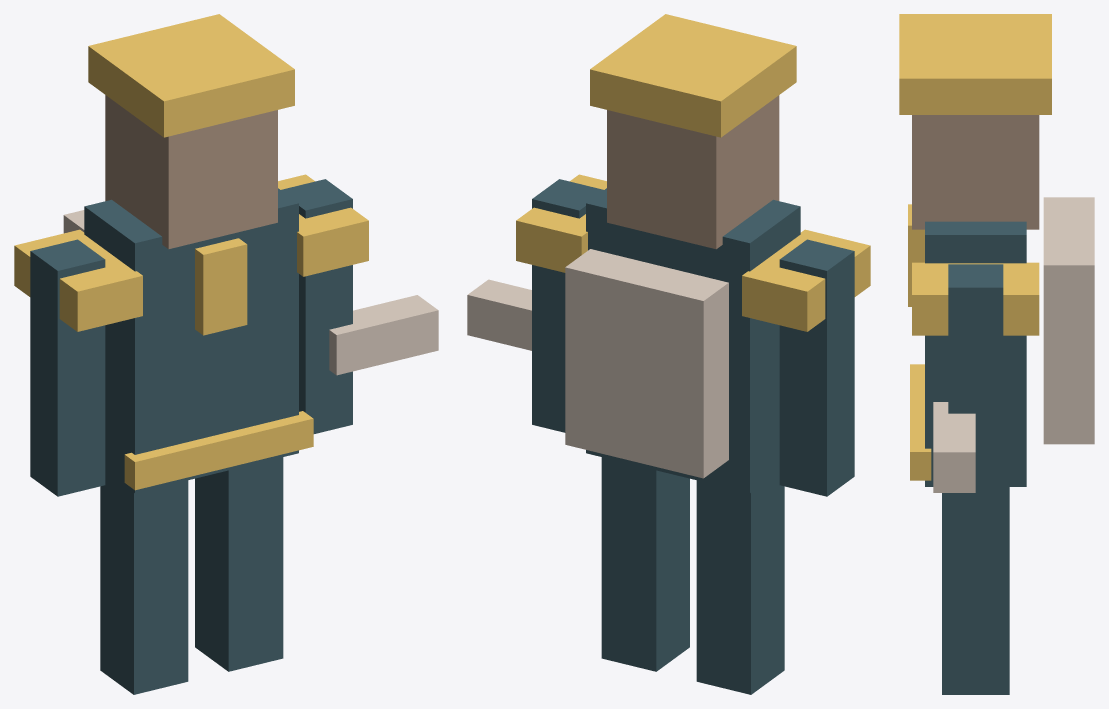
File: 04_kiva_riftwalker_courier_near_geode.glb
The picture shows the model from 3 angles, left to right: view 1: azimuth 30°, elevation 25°; view 2: azimuth 150°, elevation 25°; view 3: azimuth 270°, elevation 25°; orthographic projection.
Visible parts, largest first — view 1: Kiva Riftwalker, Courier near Geode; view 2: Kiva Riftwalker, Courier near Geode; view 3: Kiva Riftwalker, Courier near Geode.
Part boxes in pixels (x1,y1,x2,y2): Kiva Riftwalker, Courier near Geode: (14, 14, 438, 694); Kiva Riftwalker, Courier near Geode: (467, 14, 870, 694); Kiva Riftwalker, Courier near Geode: (899, 14, 1094, 694).
Size of the model in its own units: 1.01 by 1.57 by 0.4532.
